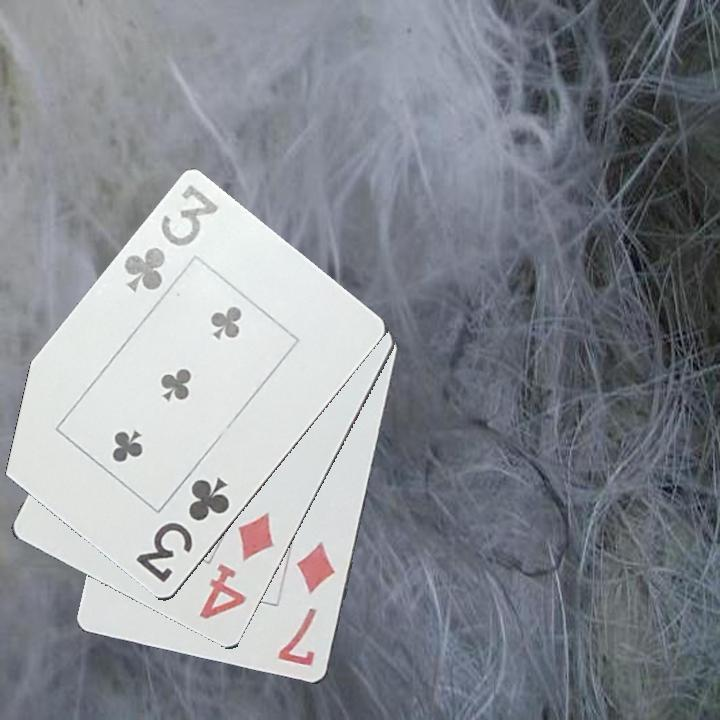3c: (120, 181, 222, 296), (132, 473, 233, 587)
4d: (195, 508, 279, 623)
7d: (274, 538, 338, 670)
